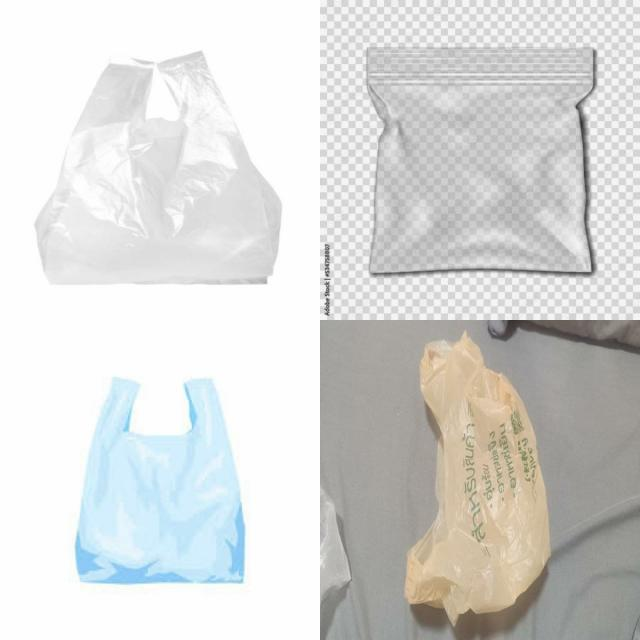Single-layer Plastic: (35, 51, 281, 284), (368, 48, 594, 272), (405, 334, 550, 624), (76, 378, 244, 583)
